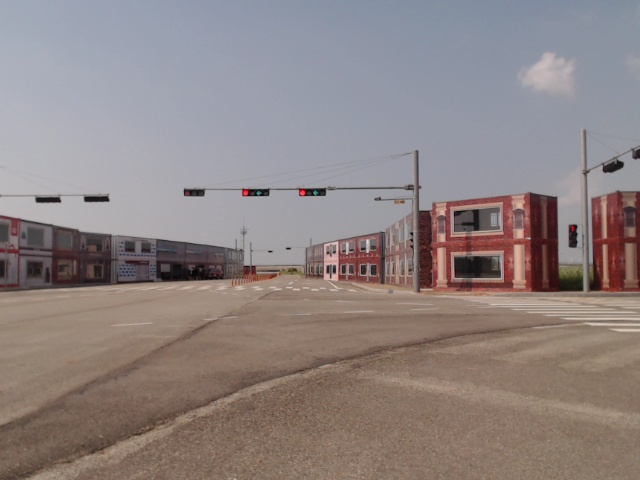left_green_4: (299, 189, 326, 196), (243, 190, 269, 196)
